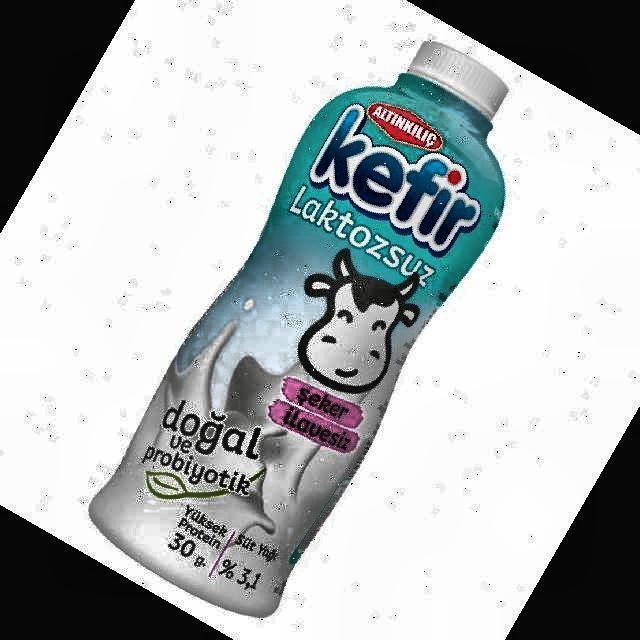plastic: (90, 45, 506, 616)
